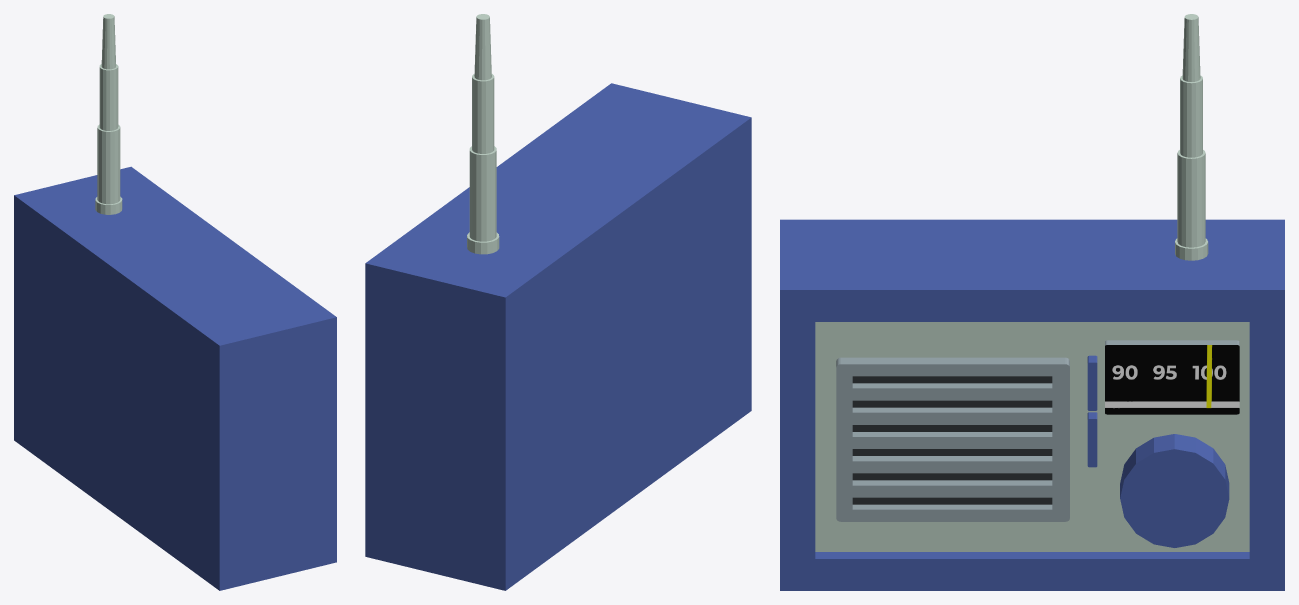
Rendered from radio.glb.
The picture shows the model from 3 angles, left to right: view 1: azimuth 30°, elevation 25°; view 2: azimuth 150°, elevation 25°; view 3: azimuth 270°, elevation 25°; orthographic projection. The views are drawn at different scales.
Parts seen in each view (by area): view 1: Cube_0, Cylinder.001_4; view 2: Cube_0, Cylinder.001_4; view 3: Cube_0, Cube.003_5, Cube.004_6, Cylinder_1, Cylinder.001_4.
Boxes of the visible parts, x1=… form: Cube_0: x1=14, y1=166, x2=336, y2=590; Cylinder.001_4: x1=95, y1=14, x2=122, y2=214; Cube_0: x1=365, y1=83, x2=751, y2=590; Cylinder.001_4: x1=467, y1=14, x2=499, y2=254; Cube_0: x1=780, y1=219, x2=1284, y2=590; Cube.003_5: x1=836, y1=357, x2=1069, y2=521; Cube.004_6: x1=1105, y1=340, x2=1239, y2=414; Cylinder_1: x1=1120, y1=434, x2=1229, y2=547; Cylinder.001_4: x1=1175, y1=14, x2=1208, y2=260.
Size of the model in its own units: 1.12 by 3.57 by 3.04.
Materials: 7 (7 with a texture image).
